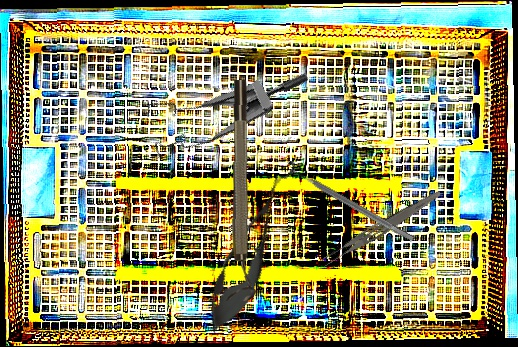Dressing Forceps: (318, 184, 444, 271)
Fixation Ring: (278, 158, 420, 250), (226, 79, 260, 302)
Micro Scissor: (195, 165, 300, 342)
Speculum: (129, 16, 311, 184)
